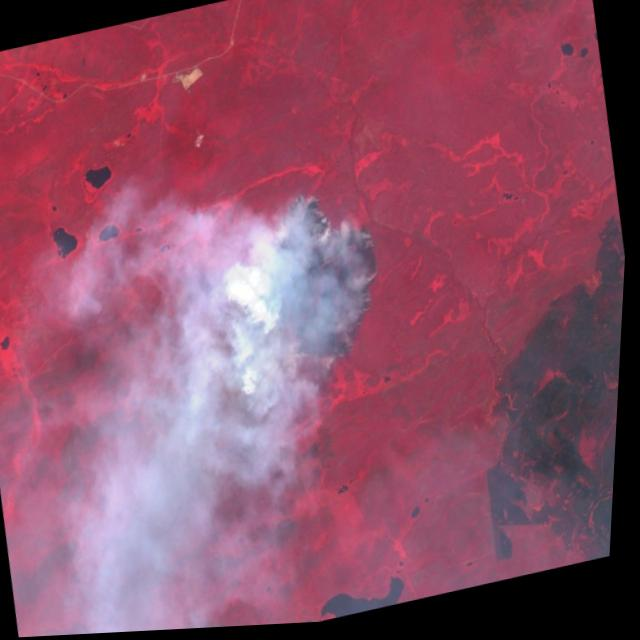fire: (219, 180, 404, 397)
